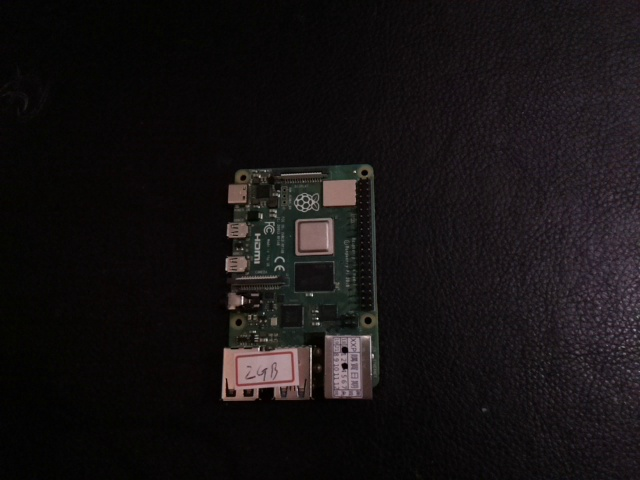pi4: (171, 144, 437, 410)
